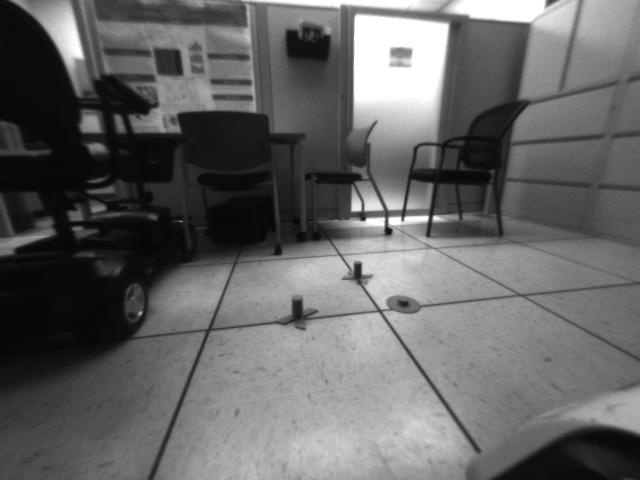X: (277, 294, 320, 331), (341, 259, 372, 287)
